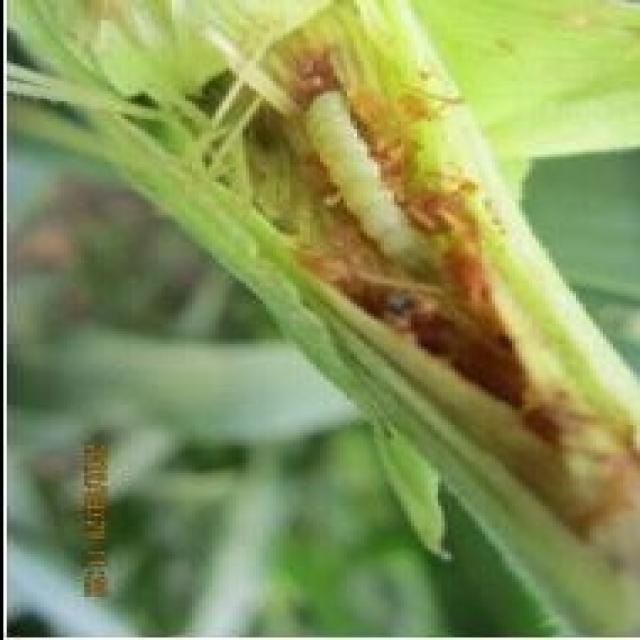peach borer: (299, 82, 431, 274)
